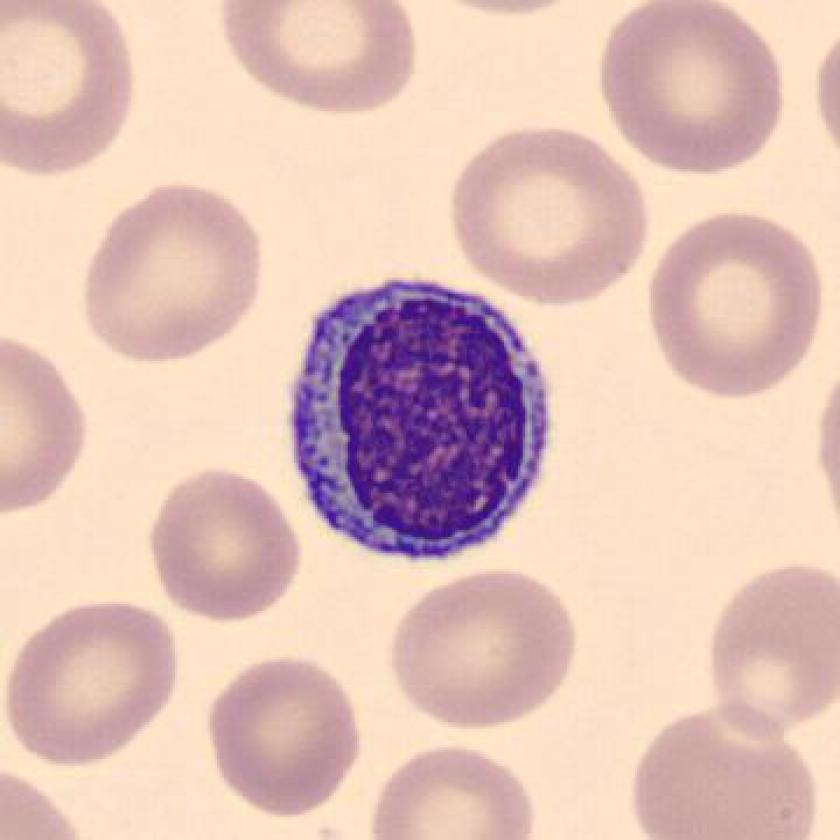lymphocyte: (269, 263, 566, 580)
